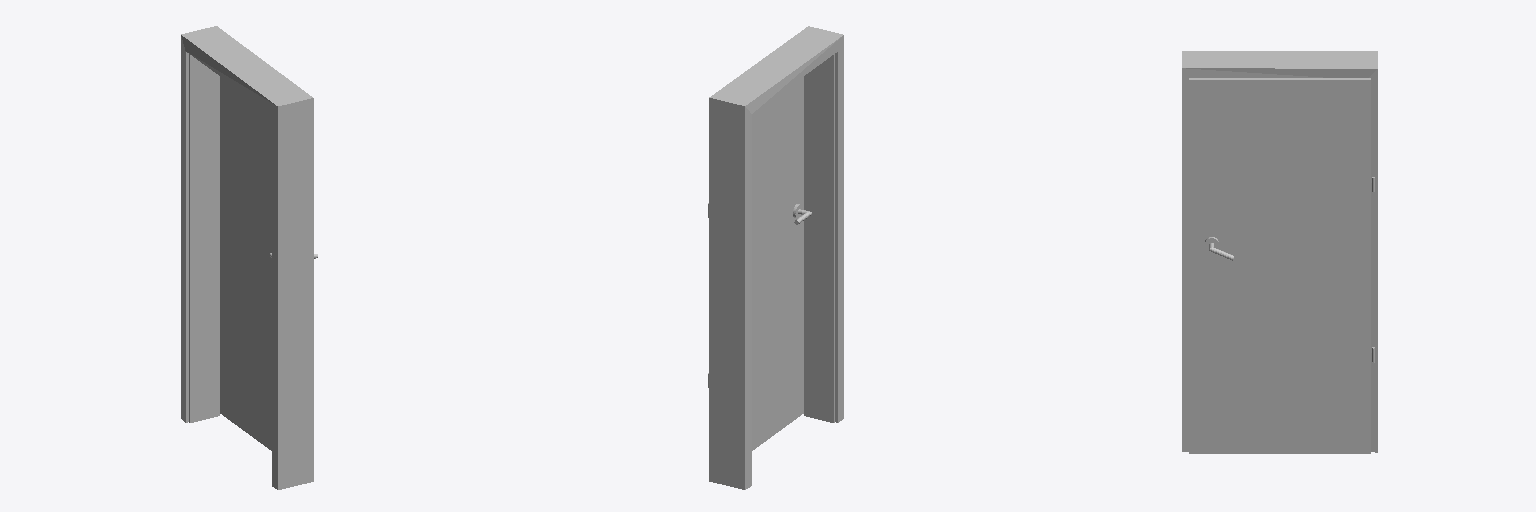
The model's file is door64.obj.
3 renders of one model, left to right at view 1: azimuth 30°, elevation 25°; view 2: azimuth 150°, elevation 25°; view 3: azimuth 270°, elevation 25°, orthographic.
Visible parts, largest first — view 1: Cylinder.005, Cylinder.001; view 2: Cylinder.005, Cylinder.001; view 3: Cylinder.001, Cylinder.005.
Part boxes in pixels (x1,y1,x2,y2): Cylinder.005: (181,26,313,489); Cylinder.001: (220,77,271,450); Cylinder.005: (708,26,843,489); Cylinder.001: (708,77,803,450); Cylinder.001: (1189,78,1374,453); Cylinder.005: (1182,51,1377,452).
Bounding box in the file's own units: 0.3039 × 2.05 × 0.95.